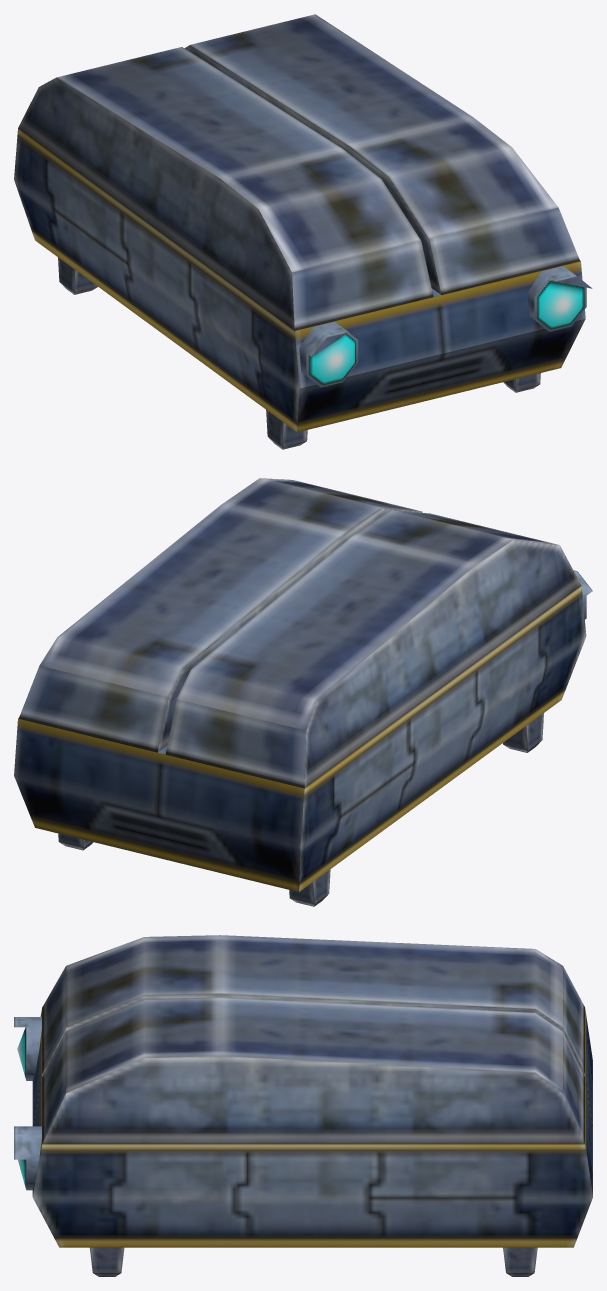
Rendered from tools.gltf.
3 renders of one model, top to bottom at view 1: azimuth 30°, elevation 25°; view 2: azimuth 150°, elevation 25°; view 3: azimuth 270°, elevation 25°, orthographic. The views are drawn at different scales.
Visible parts, largest first — view 1: tools_Torso; view 2: tools_Torso; view 3: tools_Torso.
Part boxes in pixels (x1,y1,x2,y2): tools_Torso: (14, 14, 592, 449); tools_Torso: (14, 478, 592, 906); tools_Torso: (14, 935, 592, 1276).
Size of the model in its own units: 1.09 by 0.8189 by 1.94.
1 material, 1 textured.
